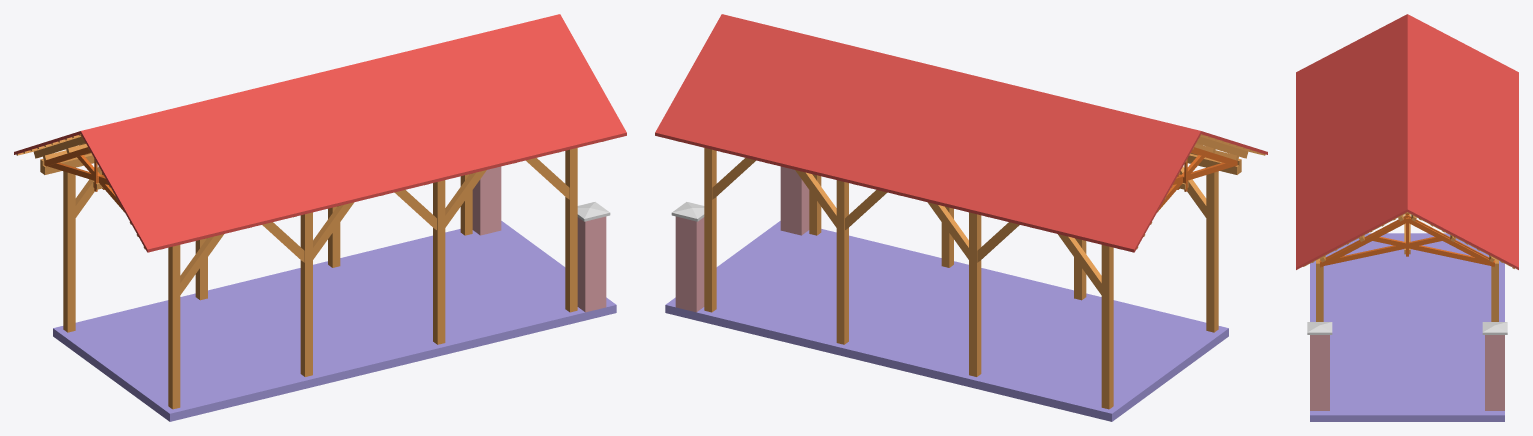
The model's file is Bealloszines2.glb.
The picture shows the model from 3 angles, left to right: view 1: azimuth 30°, elevation 25°; view 2: azimuth 150°, elevation 25°; view 3: azimuth 270°, elevation 25°; orthographic projection. The views are drawn at different scales.
Visible parts, largest first — view 1: Basic Roof Cerépfedés [372266], Floor Generic 150mm [345445], Tegla piller1 Tegla piller [366826], M_Rectangular Column Oszlop 150 x 150mm [424568], M_Rectangular Column Oszlop 150 x 150mm [345907], M_Rectangular Column Oszlop 150 x 150mm [345906], M_Rectangular Column Oszlop 150 x 150mm [361958], M_Rectangular Column Oszlop 150 x 150mm [424554], Tegla piller Tegla piller [361408], Woodenl Beams Könyökfa 100x150 [363317], Woodenl Beams Könyökfa 100x150 [363316], Woodenl Beams Könyökfa 100x150 [363314]; view 2: Basic Roof Cerépfedés [372266], Floor Generic 150mm [345445], Tegla piller Tegla piller [361408], M_Rectangular Column Oszlop 150 x 150mm [361958], M_Rectangular Column Oszlop 150 x 150mm [345502], M_Rectangular Column Oszlop 150 x 150mm [345499], M_Rectangular Column Oszlop 150 x 150mm [424568], Tegla piller1 Tegla piller [366826], M_Rectangular Column Oszlop 150 x 150mm [345505], Woodenl Beams Könyökfa 100x150 [363121], Woodenl Beams Könyökfa 100x150 [363112], Woodenl Beams Könyökfa 100x150 [350794] (+1 smaller); view 3: Basic Roof Cerépfedés [372266], Floor Generic 150mm [345445], Tegla piller Tegla piller [361408], Tegla piller1 Tegla piller [366826], Woodenl Beams Kereszt fogópár 100x30 [498939], Woodenl Beams Kereszt fogópár 100x30 [498940], Woodenl Beams Fogópár 50x100 [501989], Woodenl Beams Fogópár 50x100 [501991], M_Rectangular Column Oszlop 150 x 150mm [345499], M_Rectangular Column Oszlop 150 x 150mm [345906], Basic Roof Generic - 400mm [372082], Basic Roof Generic - 400mm [372243].
Boxes of the visible parts, <box> form: Basic Roof Cerépfedés [372266]: <box>14,14,626,252</box>; Floor Generic 150mm [345445]: <box>53,221,616,421</box>; Tegla piller1 Tegla piller [366826]: <box>577,216,606,312</box>; M_Rectangular Column Oszlop 150 x 150mm [424568]: <box>168,245,180,409</box>; M_Rectangular Column Oszlop 150 x 150mm [345907]: <box>433,180,445,344</box>; M_Rectangular Column Oszlop 150 x 150mm [345906]: <box>565,148,577,312</box>; M_Rectangular Column Oszlop 150 x 150mm [361958]: <box>63,171,75,332</box>; M_Rectangular Column Oszlop 150 x 150mm [424554]: <box>300,212,312,376</box>; Tegla piller Tegla piller [361408]: <box>472,166,501,235</box>; Woodenl Beams Könyökfa 100x150 [363317]: <box>180,234,223,294</box>; Woodenl Beams Könyökfa 100x150 [363316]: <box>445,170,486,227</box>; Woodenl Beams Könyökfa 100x150 [363314]: <box>313,202,353,259</box>; Basic Roof Cerépfedés [372266]: <box>655,14,1267,252</box>; Floor Generic 150mm [345445]: <box>665,221,1228,421</box>; Tegla piller Tegla piller [361408]: <box>675,216,704,312</box>; M_Rectangular Column Oszlop 150 x 150mm [361958]: <box>1101,245,1113,409</box>; M_Rectangular Column Oszlop 150 x 150mm [345502]: <box>836,180,848,344</box>; M_Rectangular Column Oszlop 150 x 150mm [345499]: <box>704,148,716,312</box>; M_Rectangular Column Oszlop 150 x 150mm [424568]: <box>1206,171,1218,332</box>; Tegla piller1 Tegla piller [366826]: <box>780,166,809,235</box>; M_Rectangular Column Oszlop 150 x 150mm [345505]: <box>969,212,981,376</box>; Woodenl Beams Könyökfa 100x150 [363121]: <box>1058,234,1101,294</box>; Woodenl Beams Könyökfa 100x150 [363112]: <box>795,170,836,227</box>; Woodenl Beams Könyökfa 100x150 [350794]: <box>928,202,968,259</box>; Basic Roof Cerépfedés [372266]: <box>1296,14,1518,269</box>; Floor Generic 150mm [345445]: <box>1310,233,1504,421</box>; Tegla piller Tegla piller [361408]: <box>1485,335,1504,410</box>; Tegla piller1 Tegla piller [366826]: <box>1310,335,1329,410</box>; Woodenl Beams Kereszt fogópár 100x30 [498939]: <box>1373,236,1495,265</box>; Woodenl Beams Kereszt fogópár 100x30 [498940]: <box>1319,236,1441,265</box>; Woodenl Beams Fogópár 50x100 [501989]: <box>1320,217,1407,267</box>; Woodenl Beams Fogópár 50x100 [501991]: <box>1407,217,1494,266</box>; M_Rectangular Column Oszlop 150 x 150mm [345499]: <box>1491,273,1498,321</box>; M_Rectangular Column Oszlop 150 x 150mm [345906]: <box>1316,273,1323,321</box>; Basic Roof Generic - 400mm [372082]: <box>1307,322,1332,334</box>; Basic Roof Generic - 400mm [372243]: <box>1482,322,1507,334</box>.
Bounding box in the file's own units: 9.23 × 4.7 × 4.45.
